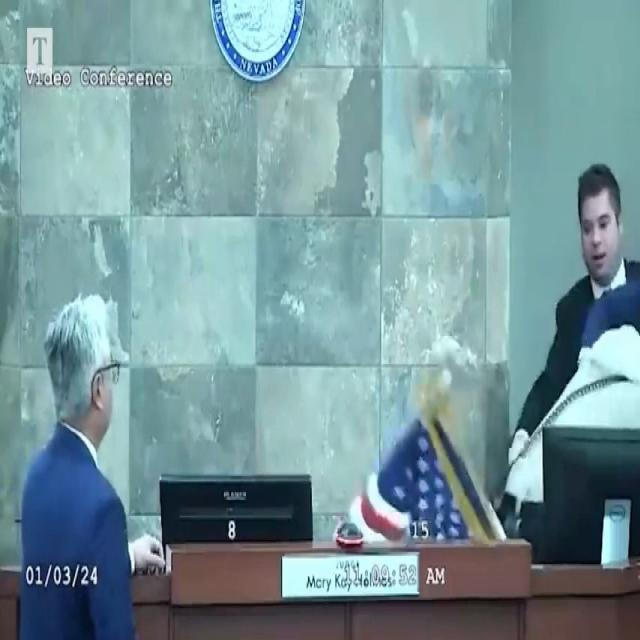fight: (506, 153, 640, 538)
non-fight: (15, 281, 139, 640)
